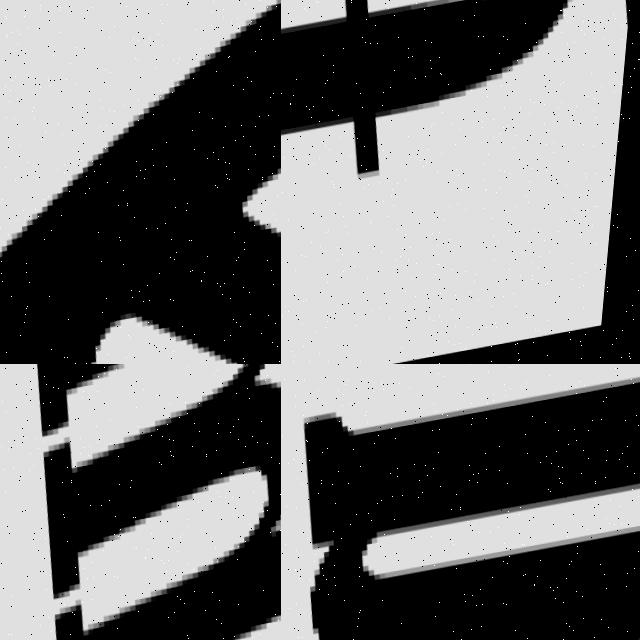D: (281, 364, 640, 640)
F: (281, 0, 632, 245)
M: (0, 364, 281, 640)
Y: (0, 0, 281, 364)
